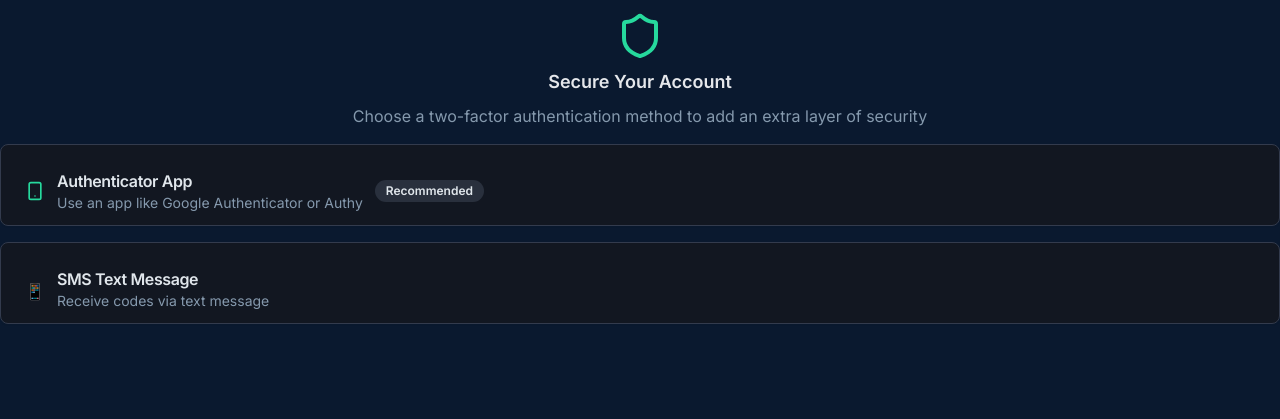
Test: TwoFactorSetup › TOTP Setup Flow › should handle TOTP setup error
Click the text "Authenticator App" at [125, 181], box [57, 171, 192, 191]
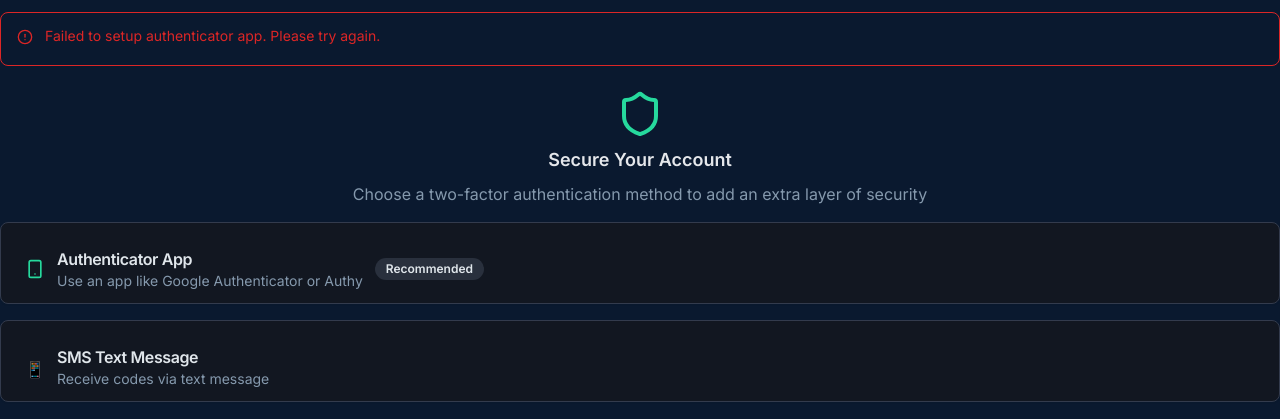
Expected: the text "Failed to setup authenticator app. Please try again." is shown, [45, 27, 380, 44]
